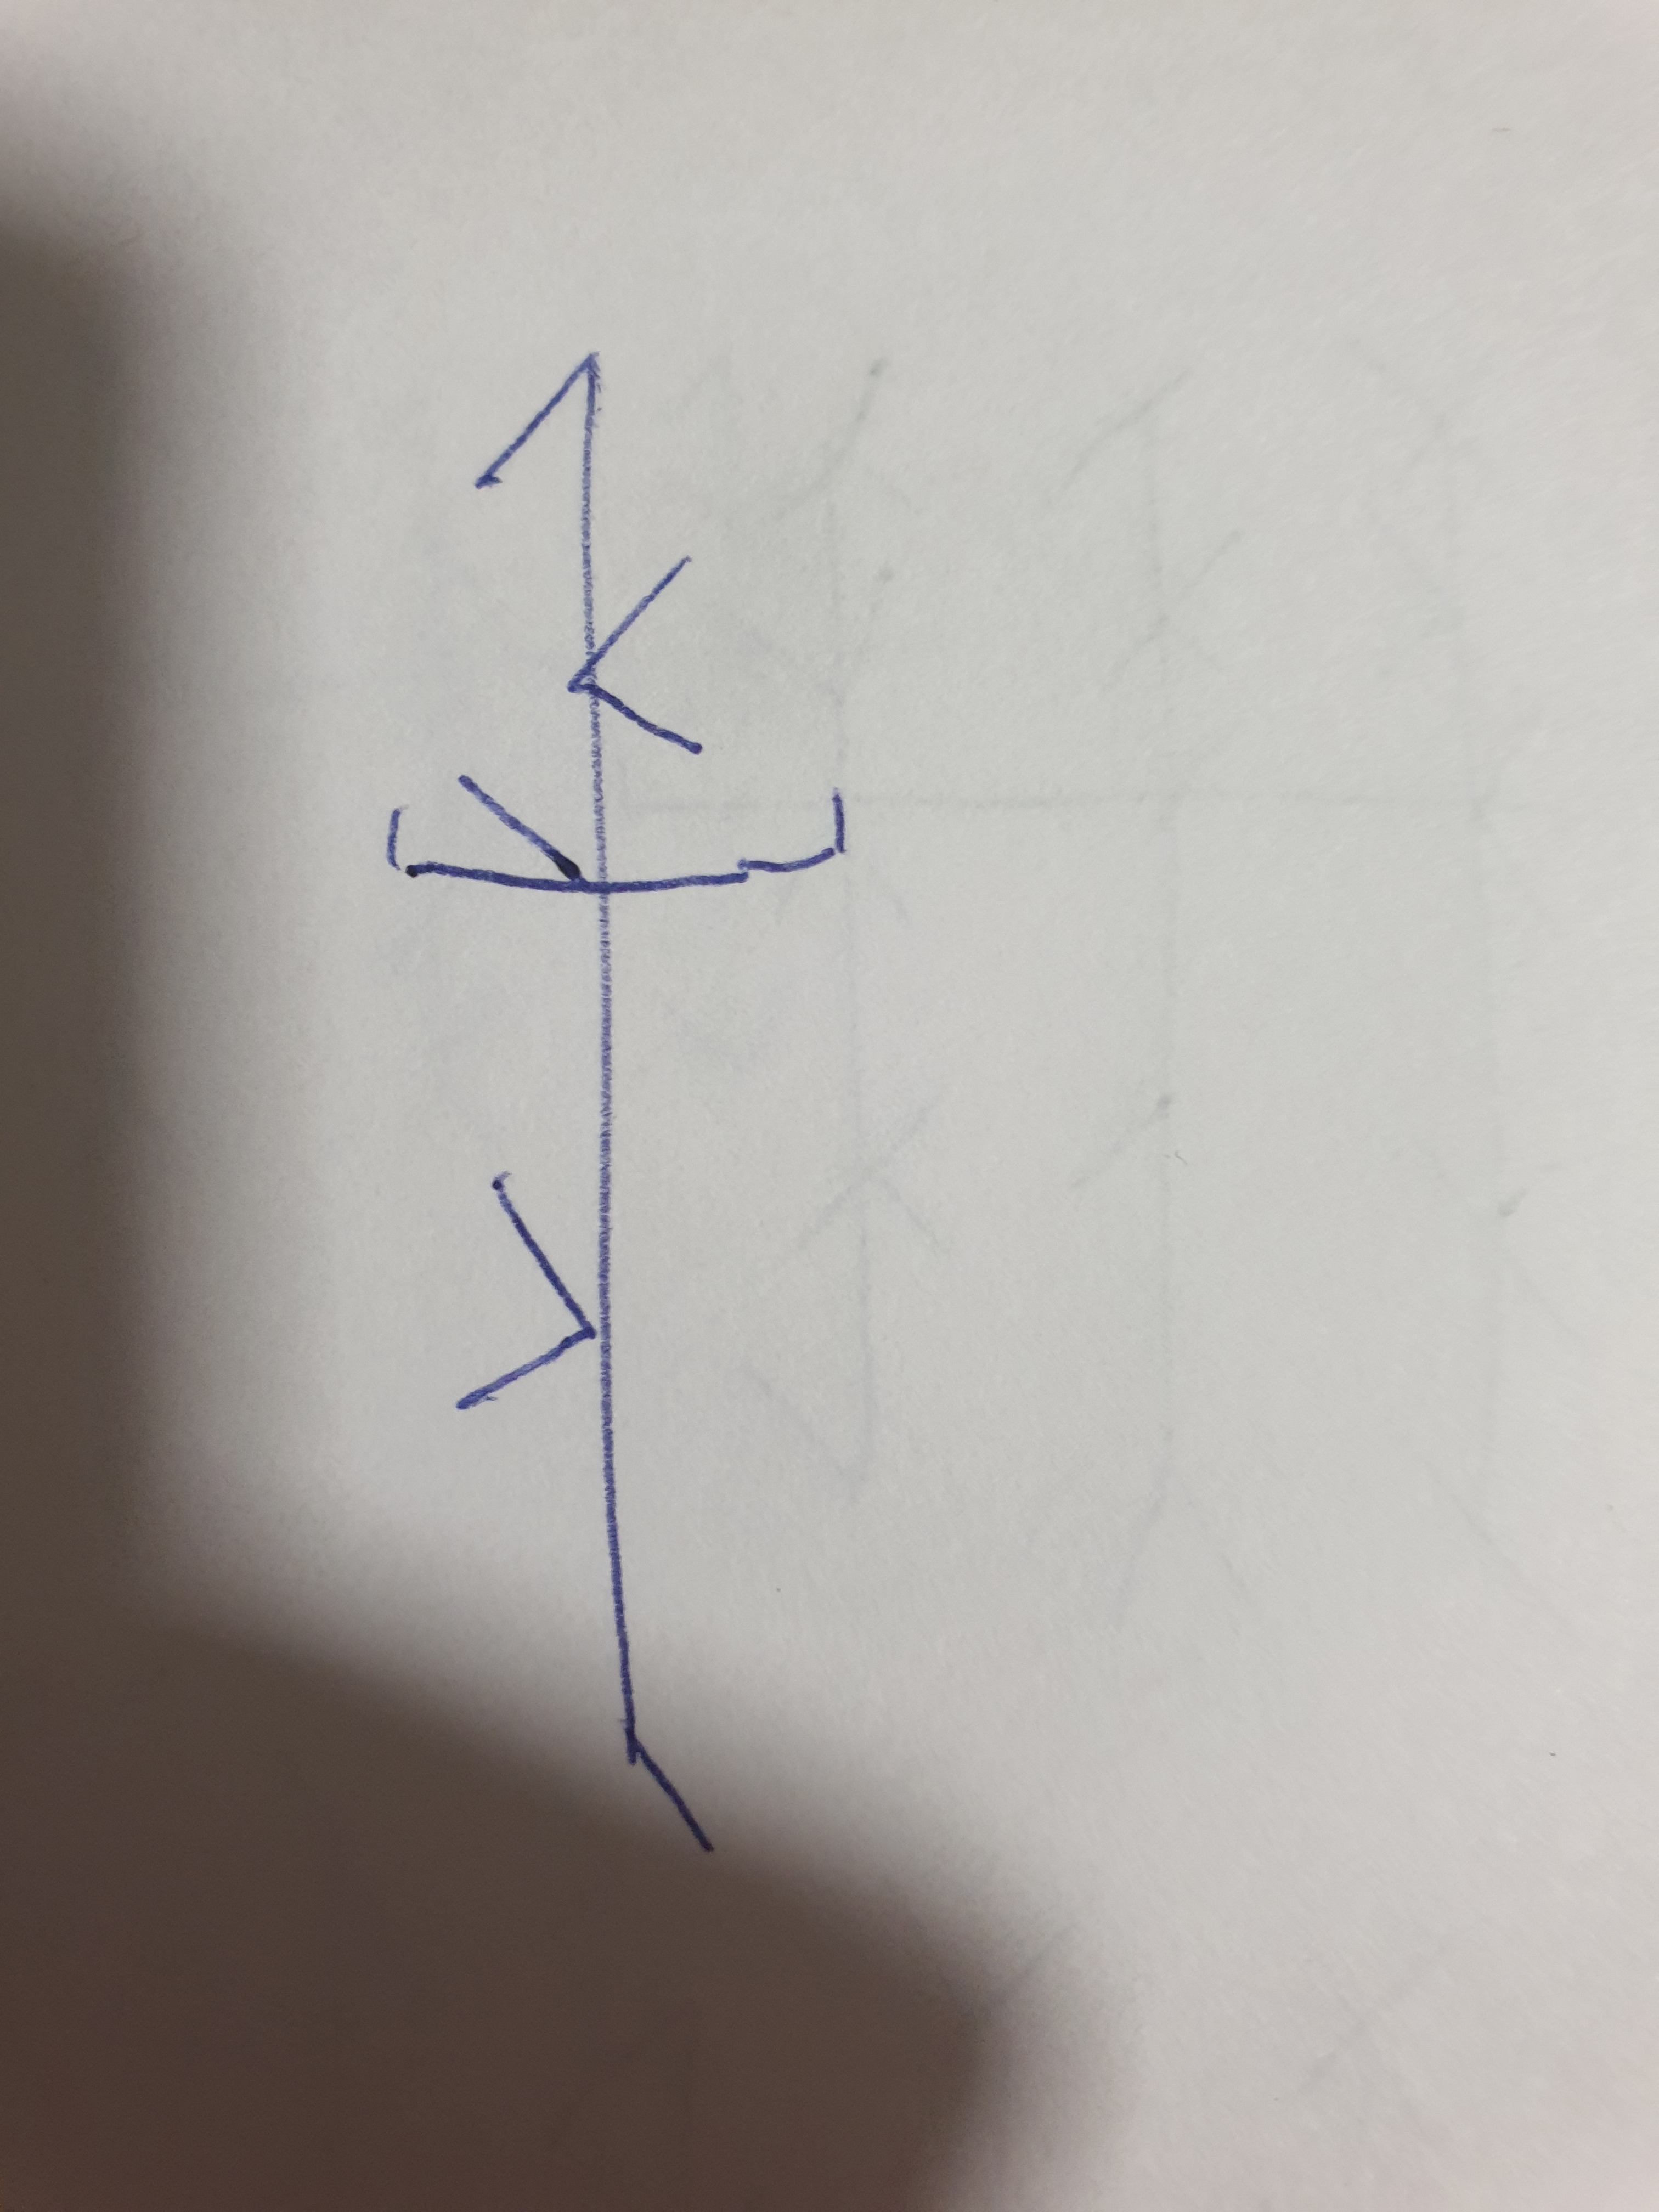Bar: (455, 352, 718, 1857)
Barcode: (383, 350, 849, 1857)
End: (606, 791, 847, 895)
Start: (378, 803, 488, 888)
